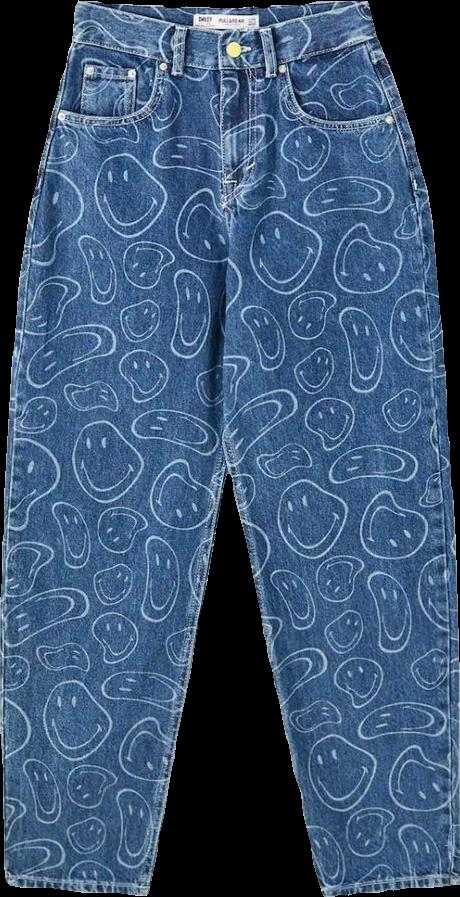Hemline: (5, 871, 152, 896), (317, 876, 459, 896)
Pantleg: (212, 1, 459, 896), (0, 2, 241, 895)
Waistline: (70, 32, 381, 76), (76, 0, 363, 38)
